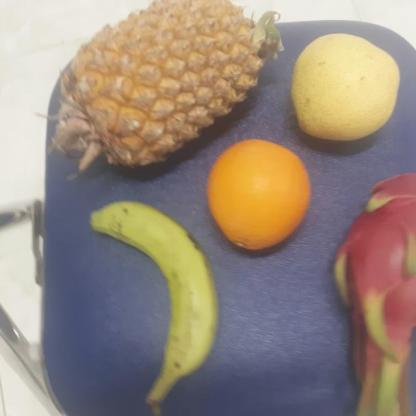banana: (98, 202, 223, 384)
orange: (207, 138, 315, 250)
pear: (291, 30, 403, 141)
pineapple: (62, 0, 276, 174)
pitaya: (336, 169, 416, 345)
